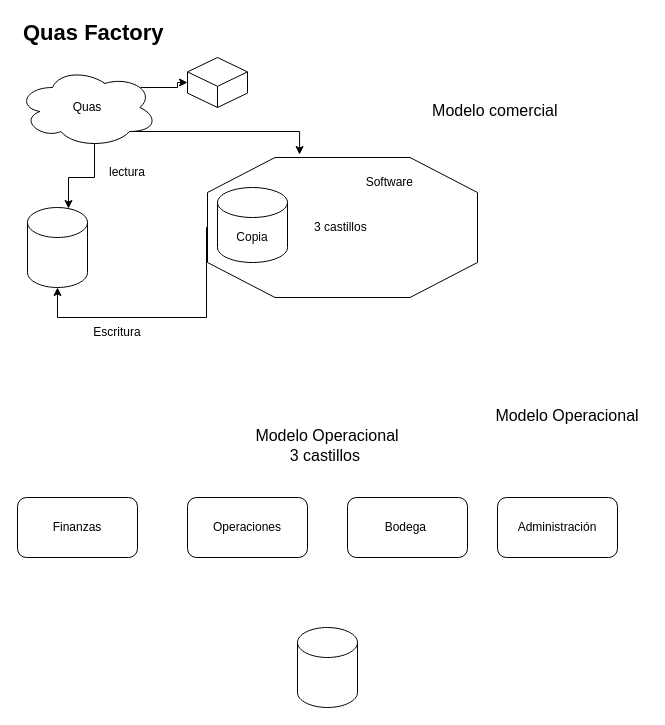
Image size: 665x725. Some labels were removed from this diagram. The shapes that lost their labels are listed below. From the top down, each one's centre as x and y in pixels, then its label:
the point at 217,82: Estrella
the point at 57,247: BD
